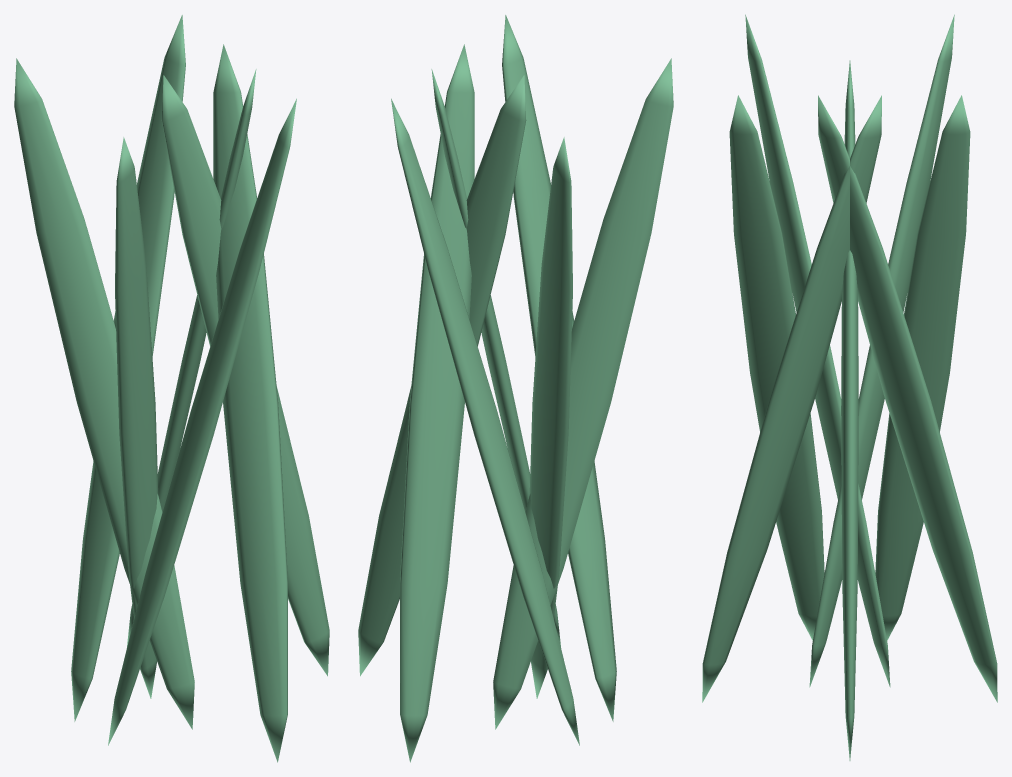
The model's file is env_deepsea_kelp.glb.
The picture shows the model from 3 angles, left to right: view 1: azimuth 30°, elevation 25°; view 2: azimuth 150°, elevation 25°; view 3: azimuth 270°, elevation 25°; orthographic projection. The views are drawn at different scales.
Visible parts, largest first — view 1: ball; view 2: ball; view 3: ball.
Part boxes in pixels (box(x1,y1,x2,y2)): ball: box(14, 15, 329, 762); ball: box(358, 15, 673, 762); ball: box(702, 14, 997, 760).
Bounding box in the file's own units: 1 × 2.34 × 0.9986.
